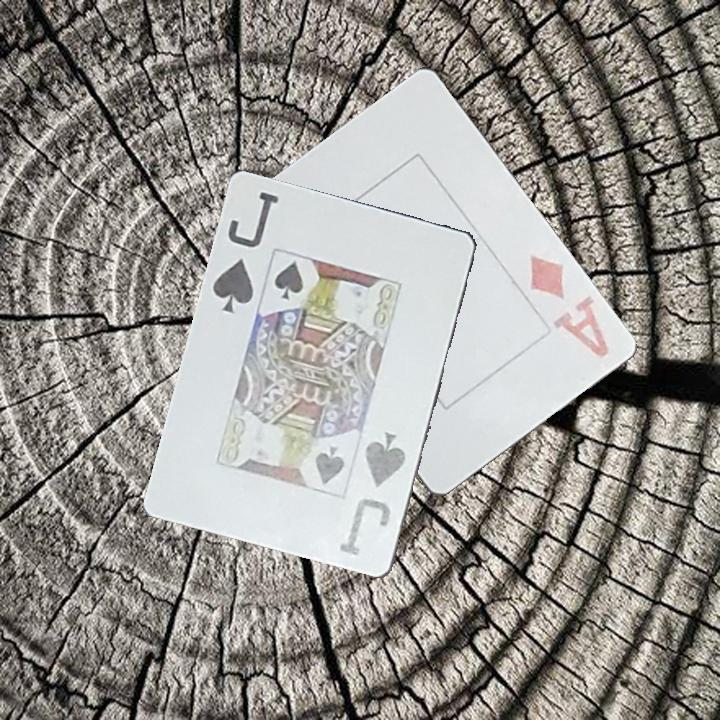Ad: (525, 250, 612, 361)
Js: (336, 429, 409, 563), (209, 188, 282, 317)
